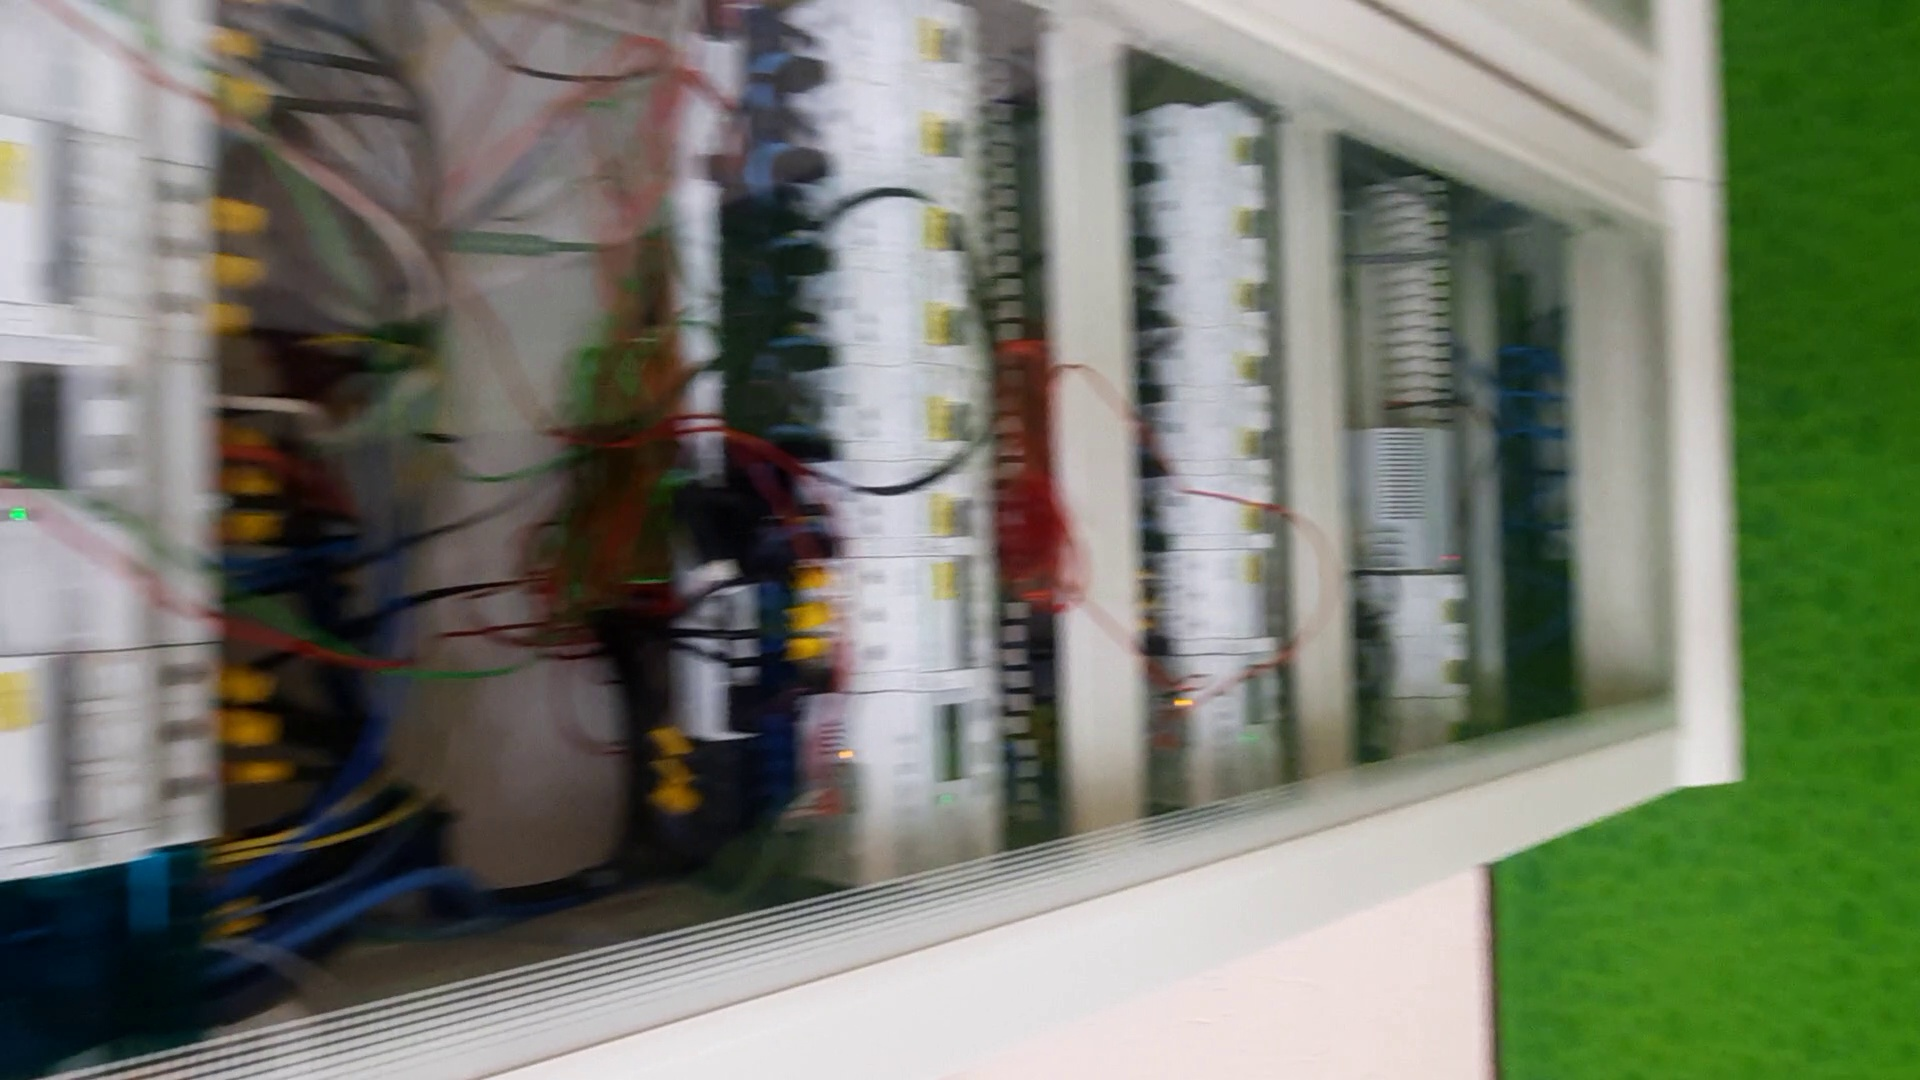stand1: (4, 3, 1743, 1068)
